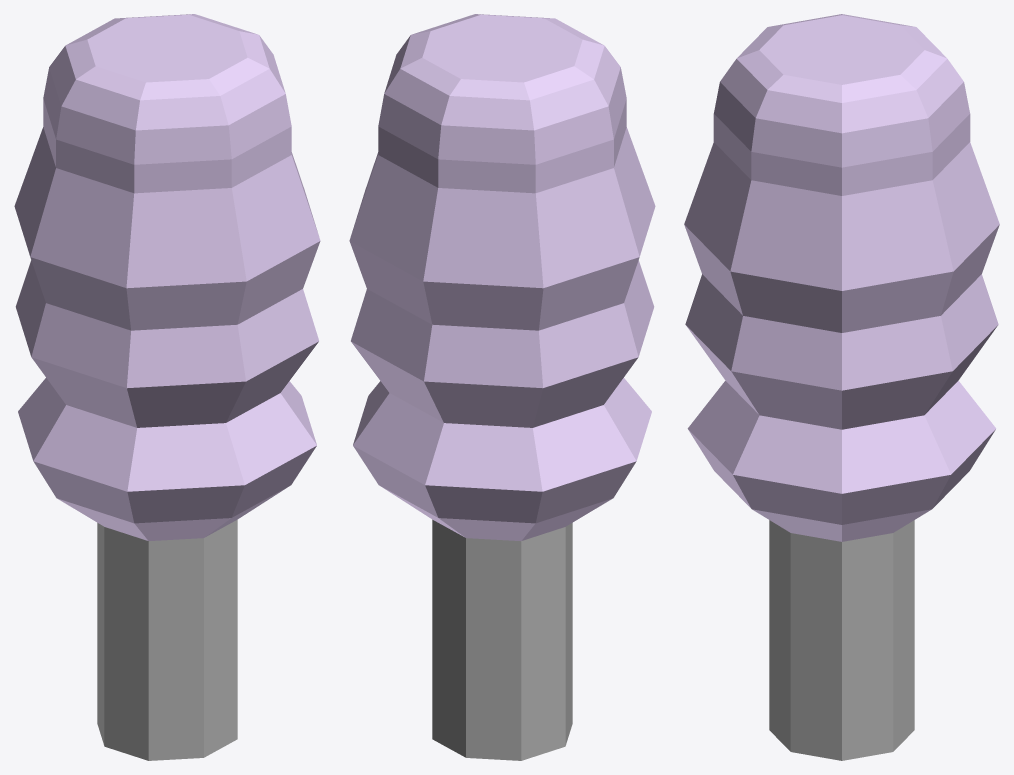
The model's file is CottonCandyBlue.fbx.
3 renders of one model, left to right at view 1: azimuth 30°, elevation 25°; view 2: azimuth 150°, elevation 25°; view 3: azimuth 270°, elevation 25°, orthographic.
Parts seen in each view (by area): view 1: CottonCandyBlue; view 2: CottonCandyBlue; view 3: CottonCandyBlue.
Boxes of the visible parts, x1,y1,x2,y2 form: CottonCandyBlue: [14, 14, 320, 760]; CottonCandyBlue: [349, 14, 655, 760]; CottonCandyBlue: [684, 14, 999, 760].
Size of the model in its own units: 7.32 by 17.39 by 7.32.
